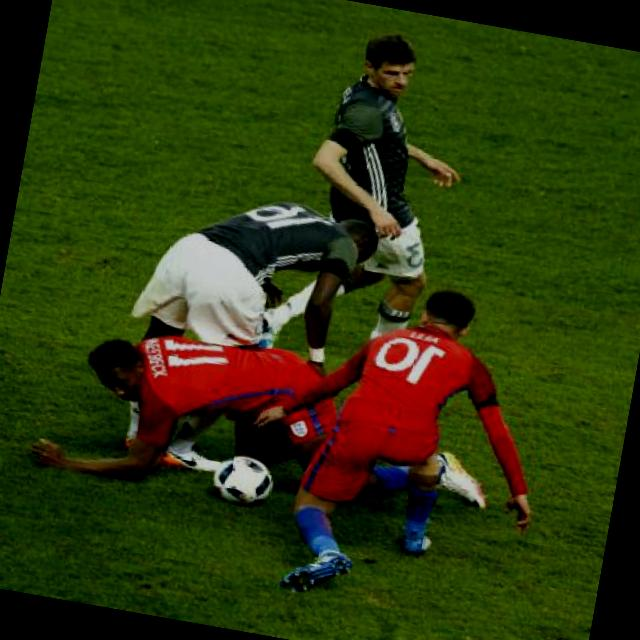Person: (294, 19, 495, 322)
